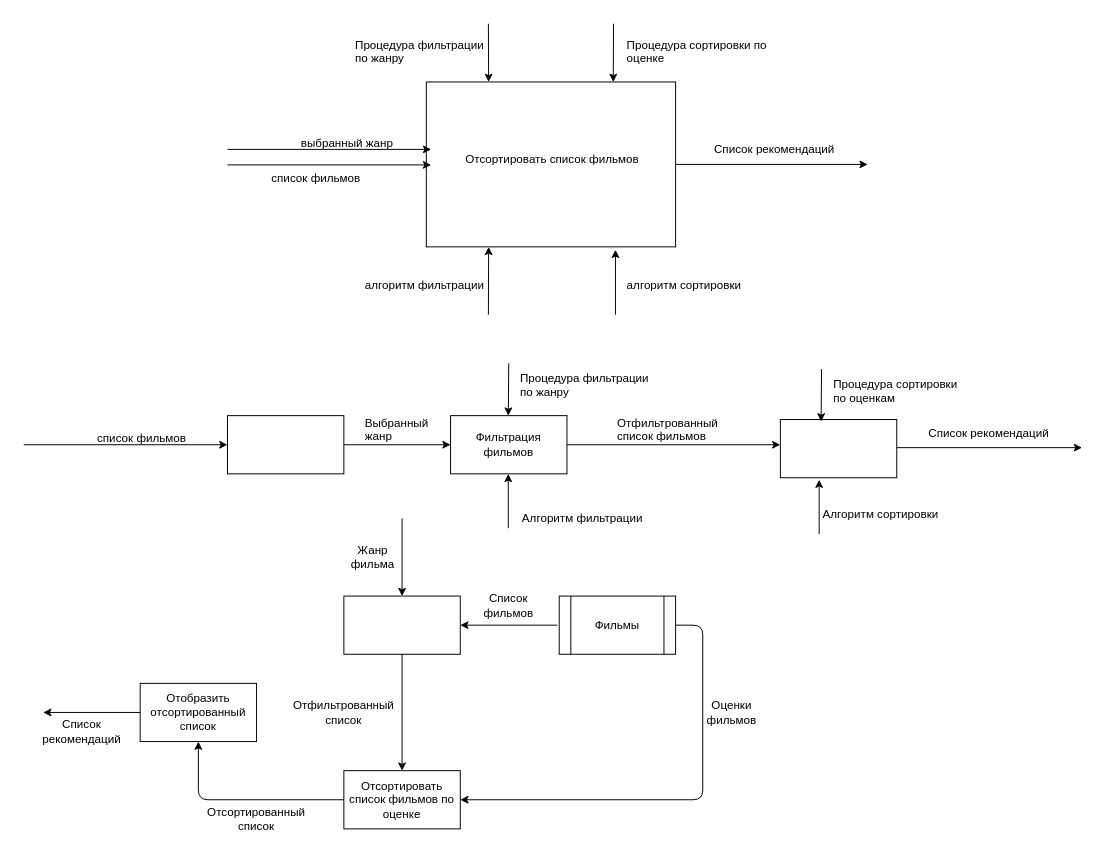
The diagram is 1107 pixels wide and 850 high, and some of its shapes have lost their labels. The centre of each missing label's shape, as x and y in pixels:
"Выбор жанра" belongs at point (285, 444).
"Отфильтровать список фильмов по жанру" belongs at point (401, 624).
"Сортировка фильмов" belongs at point (838, 448).
